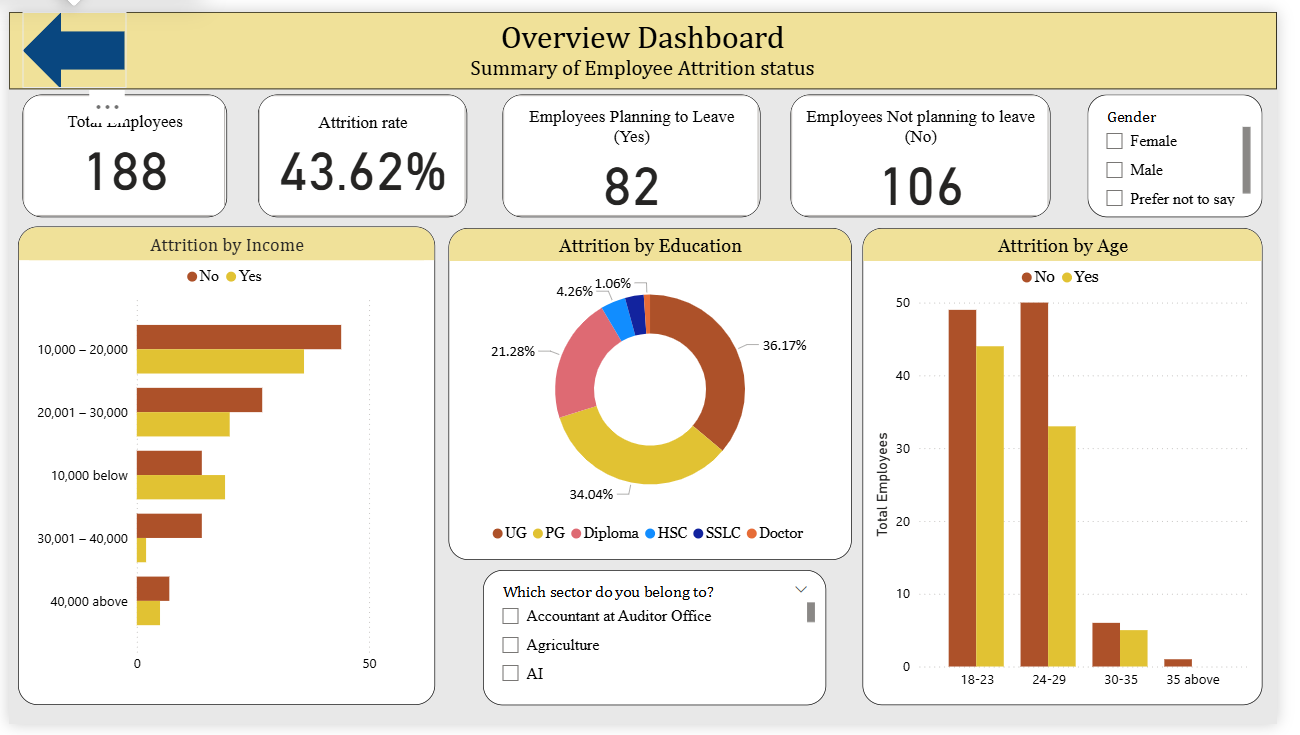

The page's visual inventory and layout, read from the dashboard file:
{"tool":"powerbi","page":{"name":"Overview","canvas":[1280,720],"ordinal":1},"visuals":[{"type":"cardVisual","fields":{"Data":["Form_Responses (2).Total Employees"]},"box":[14.3,82.7,206.8,124.1],"z":0},{"type":"cardVisual","fields":{"Data":["Form_Responses (2).Attrition rate"]},"box":[251.3,82.7,211.6,124.1],"z":1000},{"type":"donutChart","title":"Attrition by Education","fields":{"Category":["Form_Responses (2).2. Education"],"Y":["CountNonNull(Form_Responses (2).26. Are you currently planning to leave this organization?)"]},"box":[443.8,217.9,407.2,335.6],"z":2000},{"type":"clusteredColumnChart","title":"Attrition by Age","fields":{"Category":["Form_Responses (2).1. Age"],"Y":["Form_Responses (2).Total Employees"],"Series":["Form_Responses (2).26. Are you currently planning to leave this organization?"]},"box":[862.1,217.9,404,482],"z":3000},{"type":"clusteredBarChart","title":"Attrition by Income","fields":{"Series":["Form_Responses (2).26. Are you currently planning to leave this organization?"],"Y":["Form_Responses (2).Total Employees"],"Category":["Form_Responses (2).5. Monthly Income"]},"box":[9.5,216.3,421.5,483.5],"z":4000},{"type":"cardVisual","fields":{"Data":["Form_Responses (2).Employees Planning to Leave"]},"box":[497.9,82.7,260.9,124.1],"z":5000},{"type":"cardVisual","fields":{"Data":["Form_Responses (2).No"]},"box":[788.9,82.7,262.5,124.1],"z":6000},{"type":"slicer","fields":{"Values":["Form_Responses (2).3. Gender"]},"box":[1089.6,82.7,176.6,124.1],"z":7000},{"type":"slicer","fields":{"Values":["Form_Responses (2).6. Which sector do you belong to?"]},"box":[478.8,563.1,346.8,136.8],"z":8000},{"type":"textbox","box":[0,0,1280.4,77.9],"z":9000},{"type":"actionButton","box":[14.3,0,103.4,77.9],"z":10000}]}

Visuals, with their boxes in screenshot pixels (x1, y1, x2, y2), scaled from the page's 1280x720 canvas onto the 1300x735 screenshot:
cardVisual - Form_Responses (2).Total Employees: 15/84/225/211
cardVisual - Form_Responses (2).Attrition rate: 255/84/470/211
"Attrition by Education" donutChart: 451/222/864/565
"Attrition by Age" clusteredColumnChart: 876/222/1286/714
"Attrition by Income" clusteredBarChart: 10/221/438/714
cardVisual - Form_Responses (2).Employees Planning to Leave: 506/84/771/211
cardVisual - Form_Responses (2).No: 801/84/1068/211
slicer - Form_Responses (2).3. Gender: 1107/84/1286/211
slicer - Form_Responses (2).6. Which sector do you belong to?: 486/575/838/714
textbox: 0/0/1299/80
actionButton: 15/0/120/80
